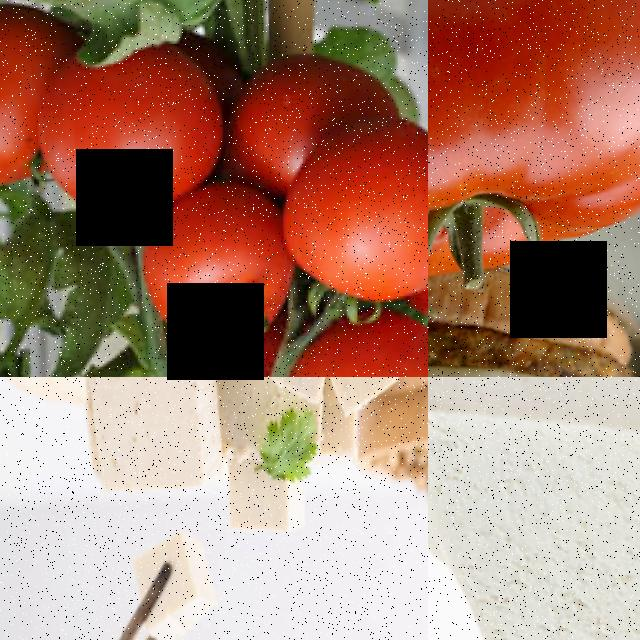tofu: (428, 377, 640, 640), (75, 377, 232, 496), (135, 535, 220, 640), (226, 481, 310, 542), (323, 377, 408, 408), (248, 377, 342, 404)
tomato: (428, 0, 640, 298), (33, 43, 231, 212), (276, 114, 428, 308), (139, 183, 299, 347), (292, 305, 428, 377)
